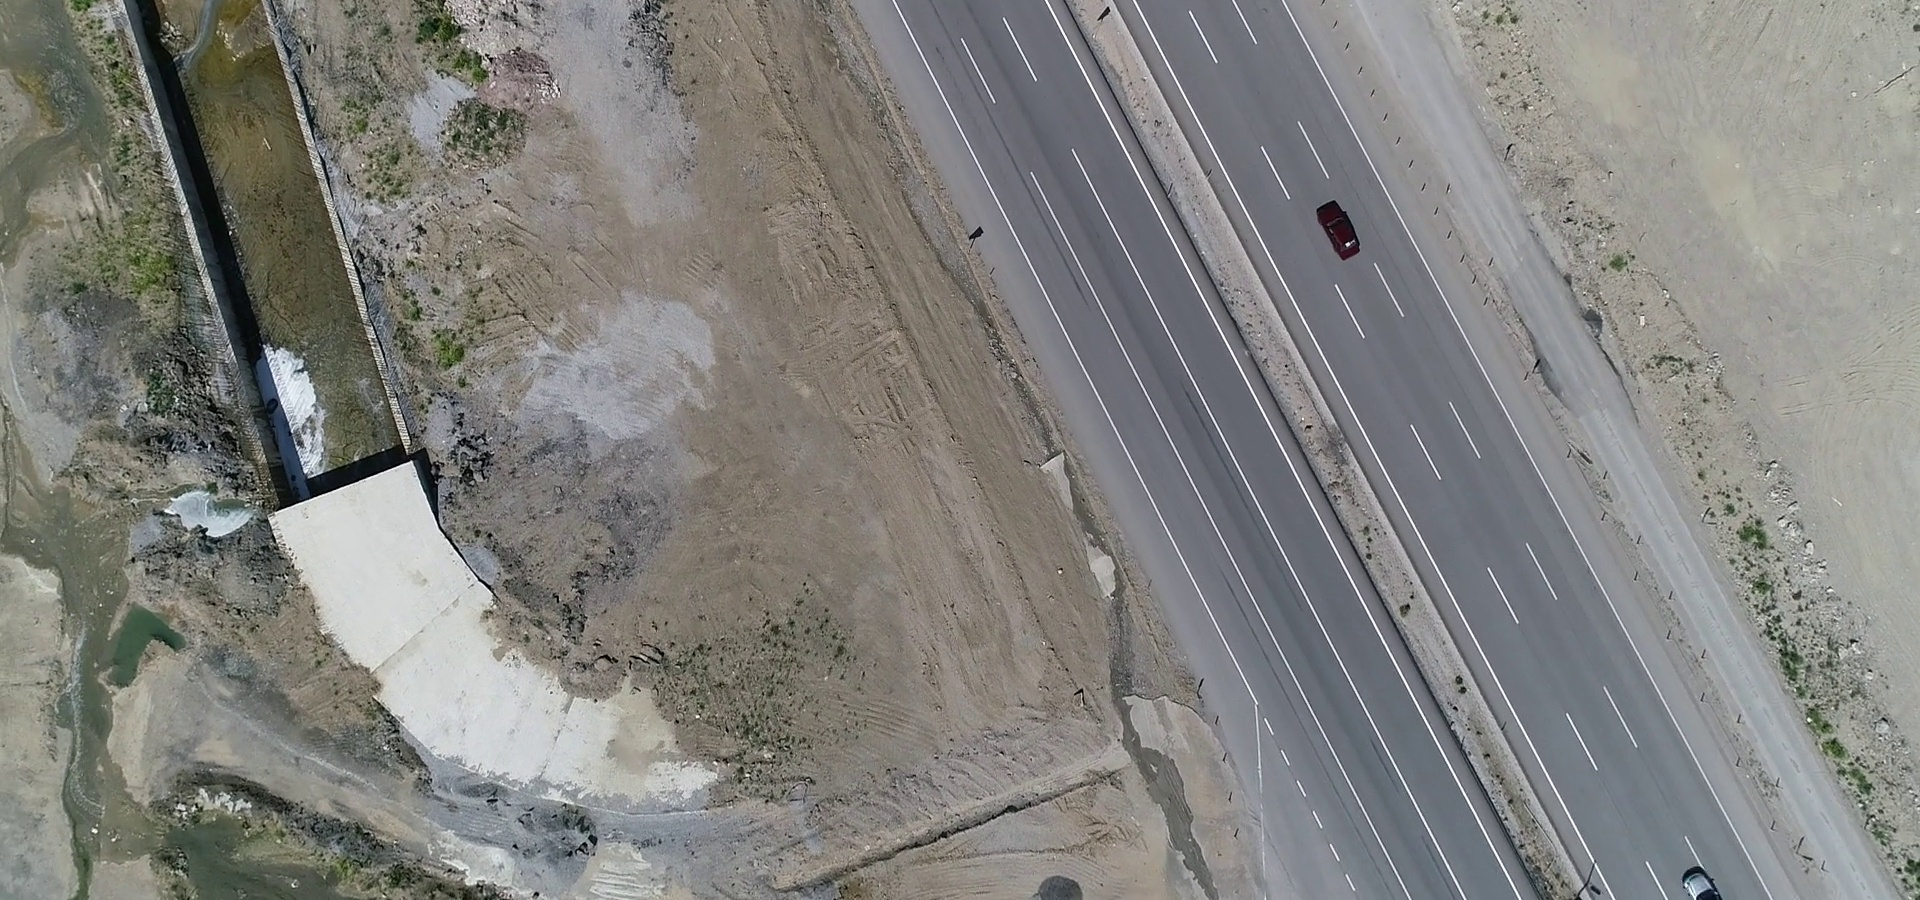arac: (1314, 193, 1367, 264), (1678, 863, 1722, 900)
